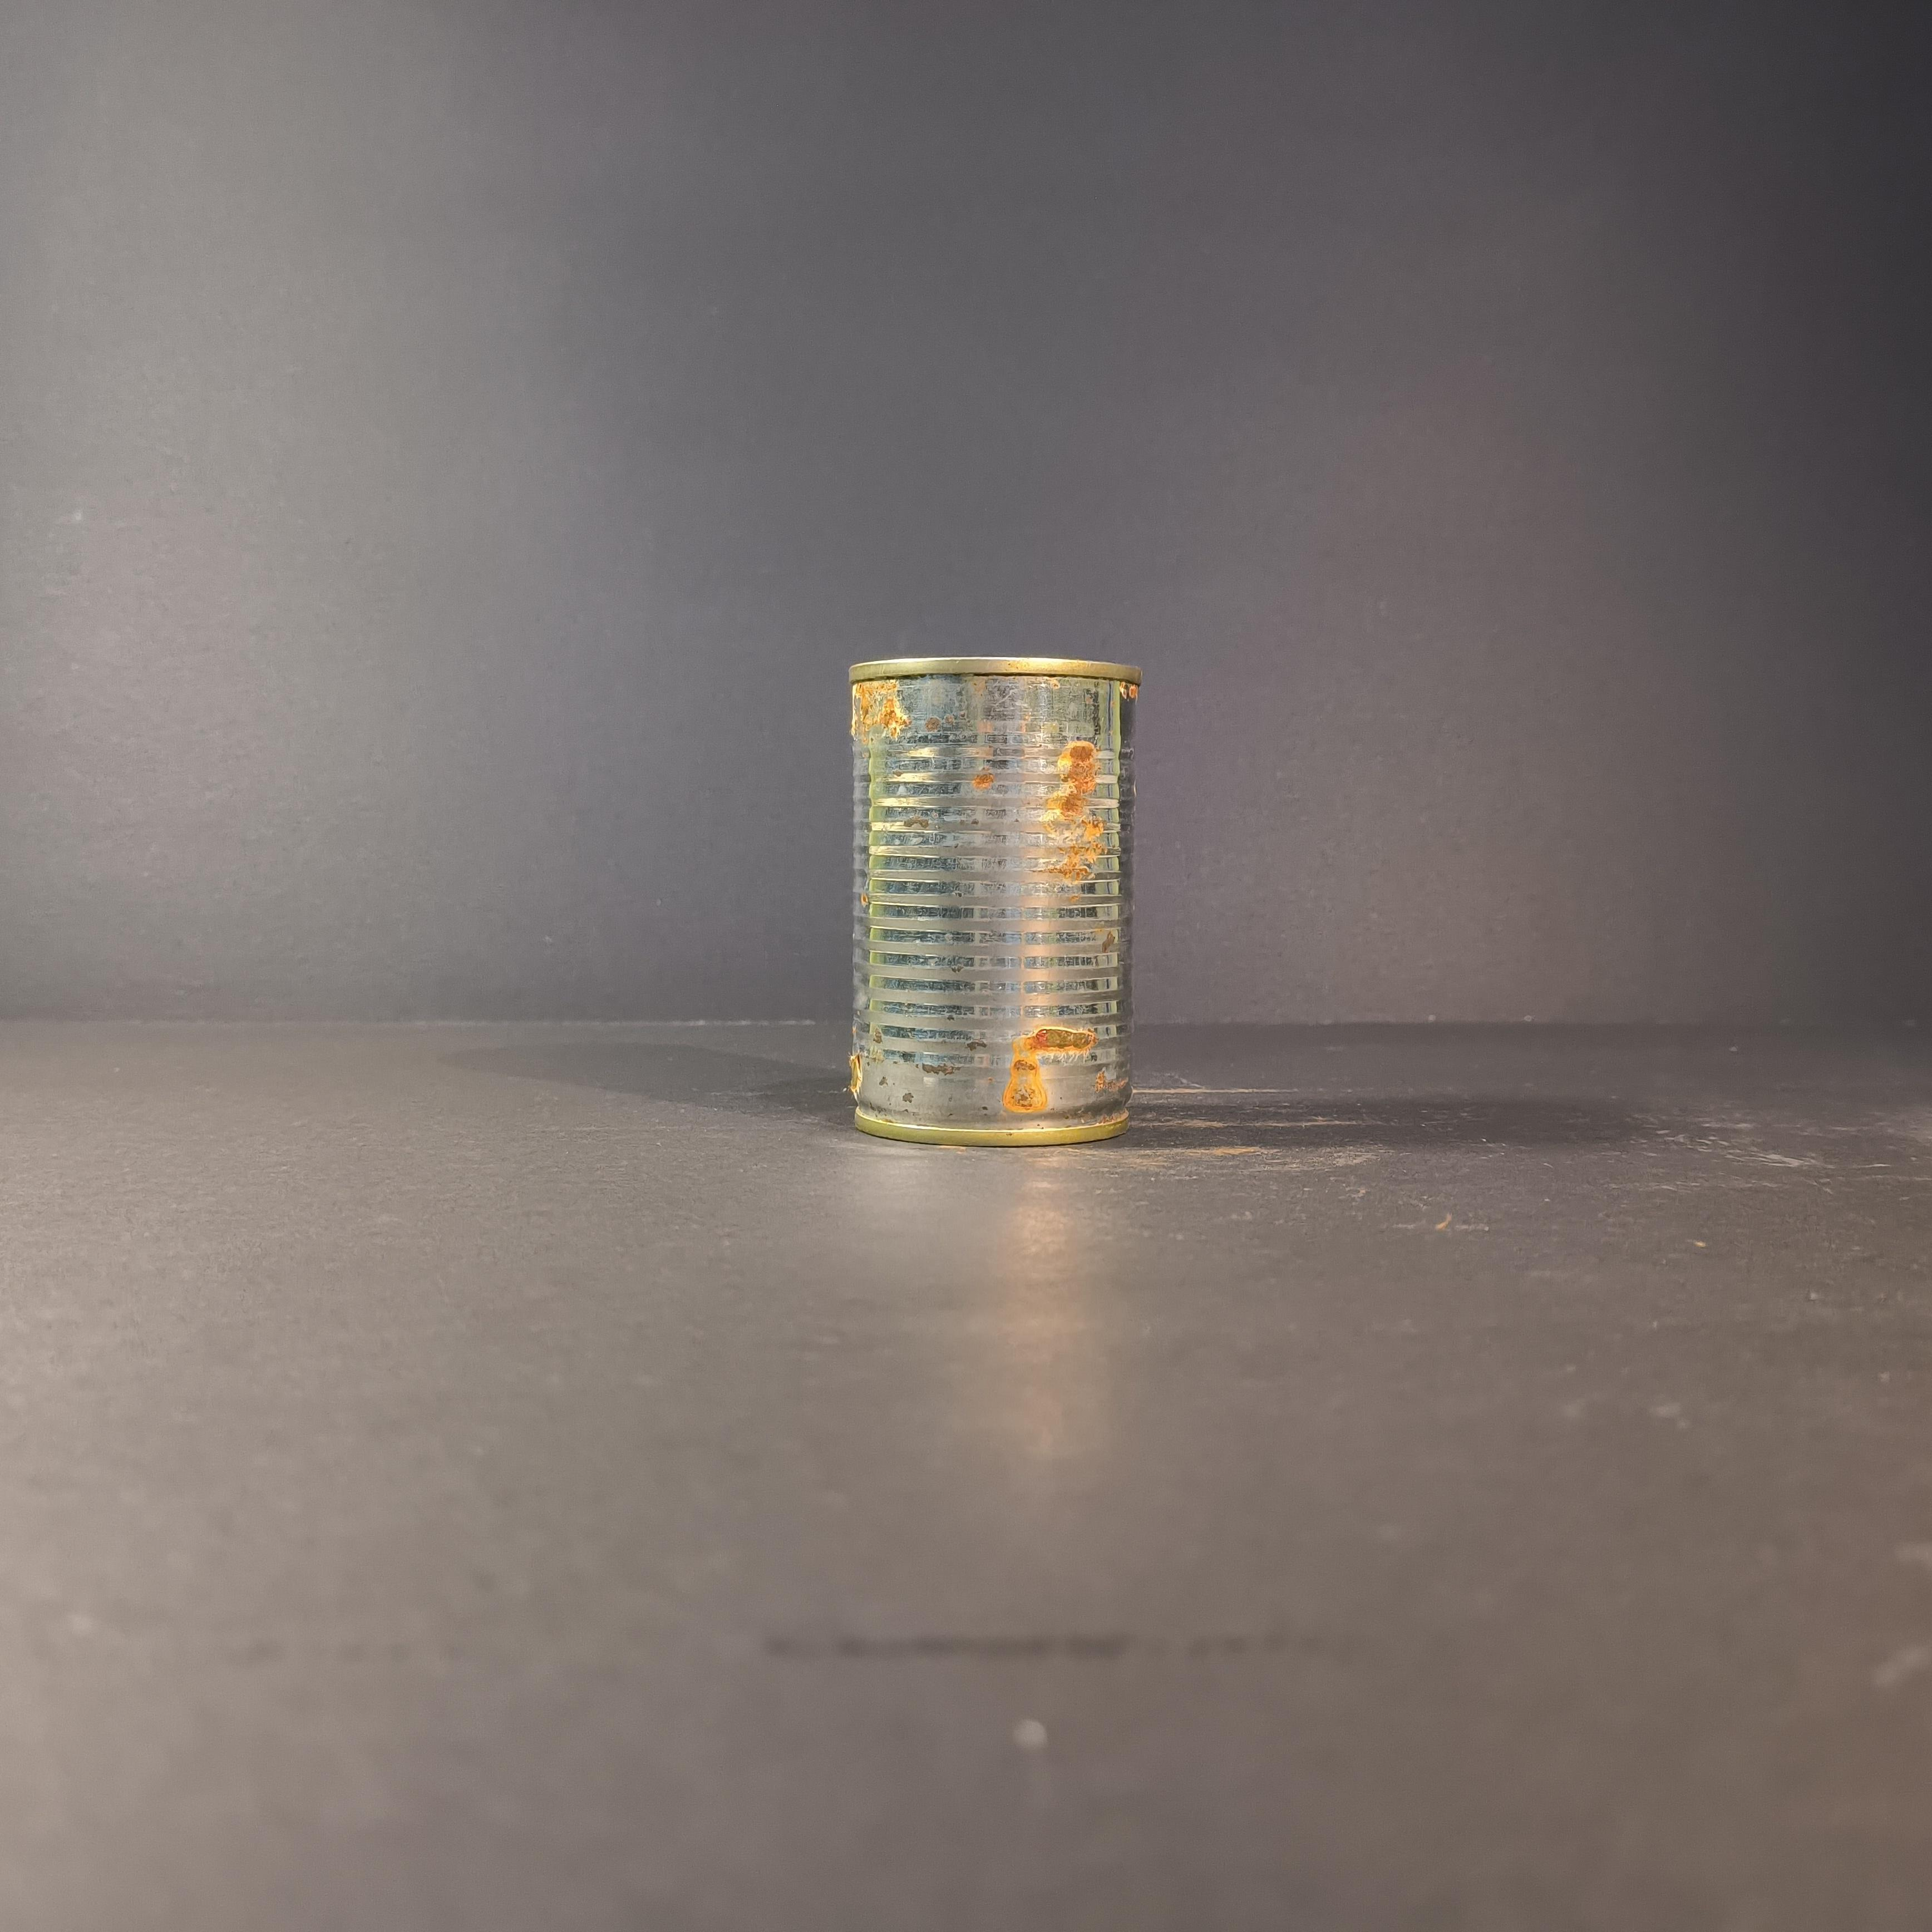Rusted: (840, 621, 1157, 1157)
